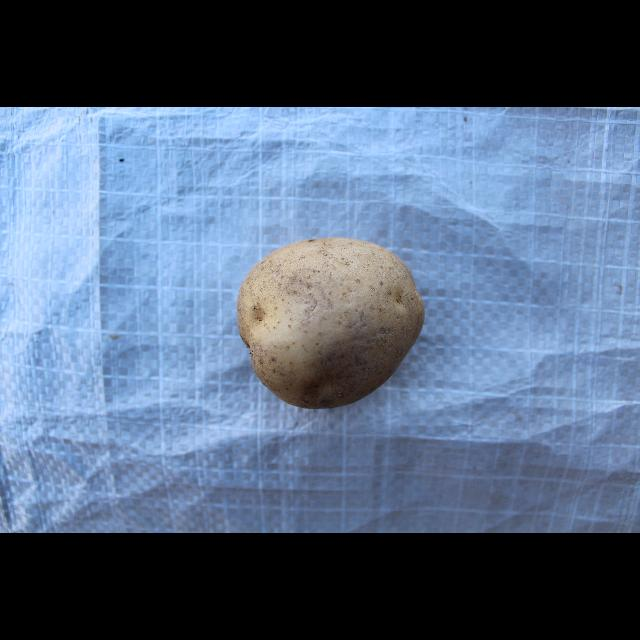Diseased-fungal potato: (232, 233, 430, 411)
